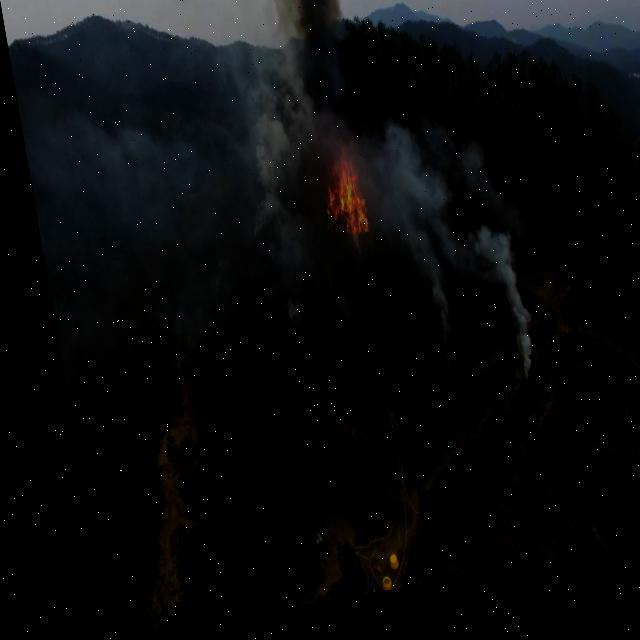Fire: (279, 112, 381, 270)
